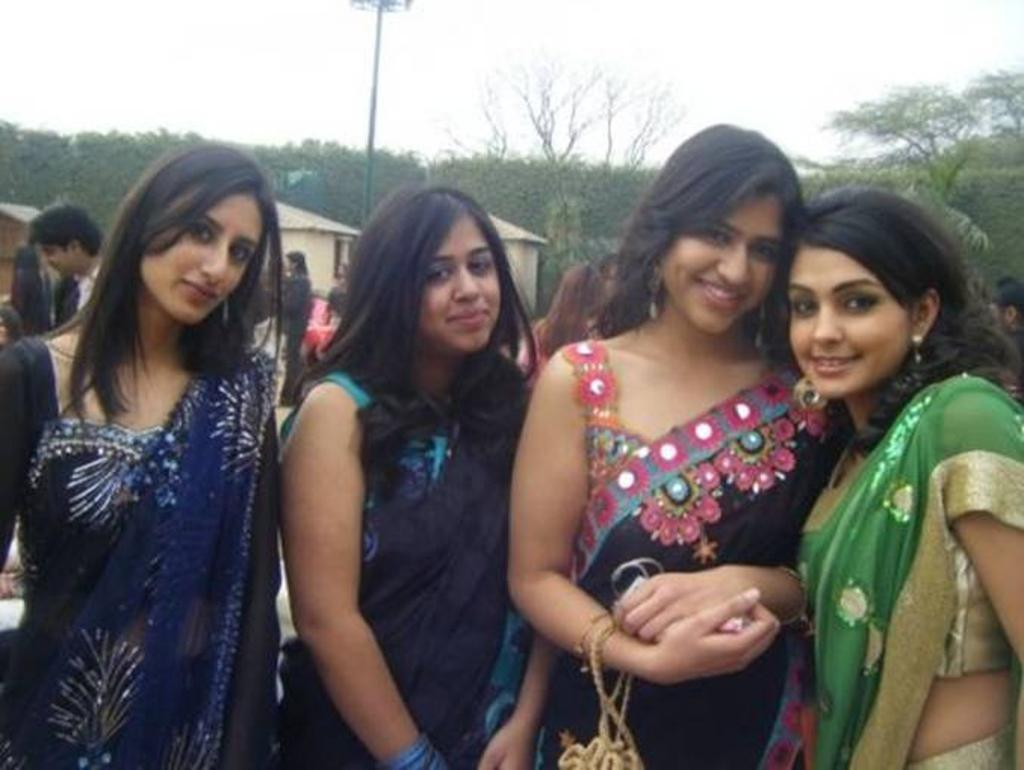face: (661, 195, 785, 333), (791, 257, 909, 398), (142, 202, 265, 323), (406, 229, 501, 350), (40, 235, 85, 274), (989, 302, 1014, 339), (286, 257, 294, 268)
